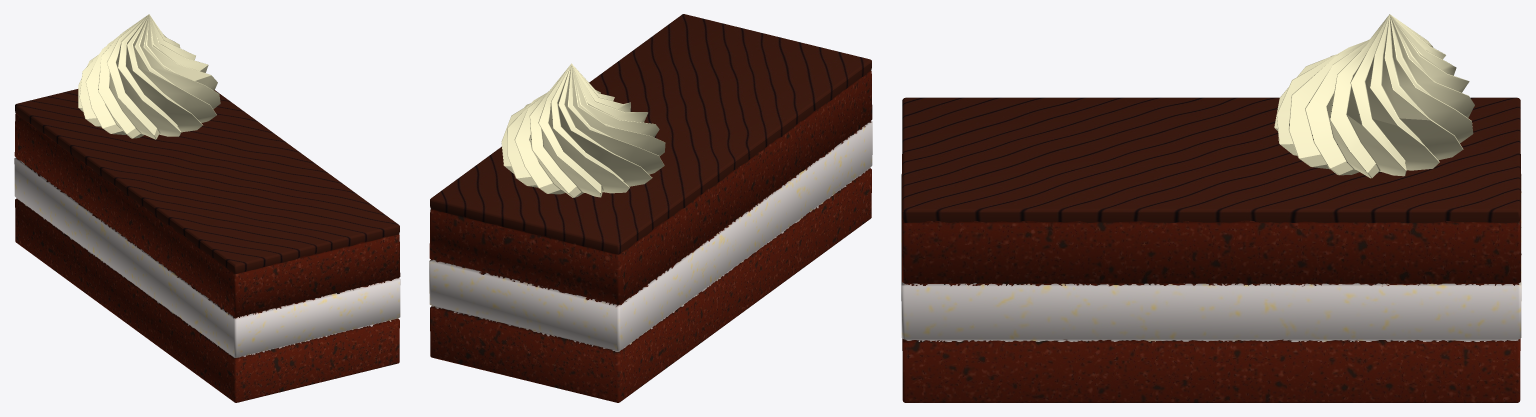
Rendered from chocolate_cake.glb.
The picture shows the model from 3 angles, left to right: view 1: azimuth 30°, elevation 25°; view 2: azimuth 150°, elevation 25°; view 3: azimuth 270°, elevation 25°; orthographic projection. The views are drawn at different scales.
Parts seen in each view (by area): view 1: Cake; view 2: Cake; view 3: Cake.
Part boxes in pixels (x1,y1,x2,y2): Cake: [14, 14, 400, 402]; Cake: [429, 14, 872, 402]; Cake: [901, 14, 1521, 402].
Size of the model in its own units: 0.0695 by 0.0965 by 0.1608.
Materials: 1 (1 with a texture image).
